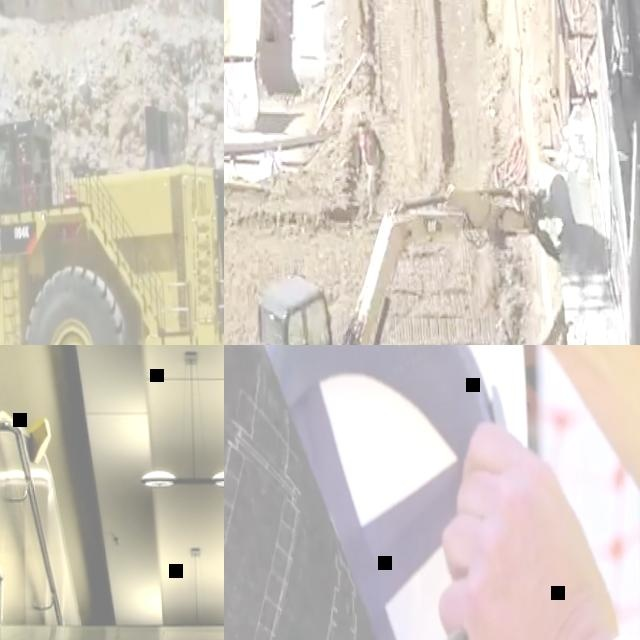Hardhat: (243, 345, 534, 640)
Person: (412, 345, 640, 640), (356, 114, 384, 218)
machinery: (0, 0, 224, 345), (231, 155, 580, 345)
